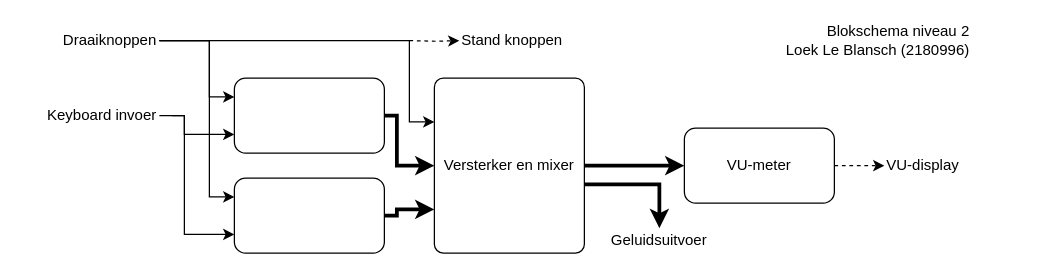
Some shapes in this 1055 by 275 pixel diagram are drawn without their labels. Each missing label, with the box of its shape:
555 timer circuit (synthesizer analoog): (233, 177, 384, 253)
Arduino Uno (synthesizer digitaal): (233, 77, 384, 153)
